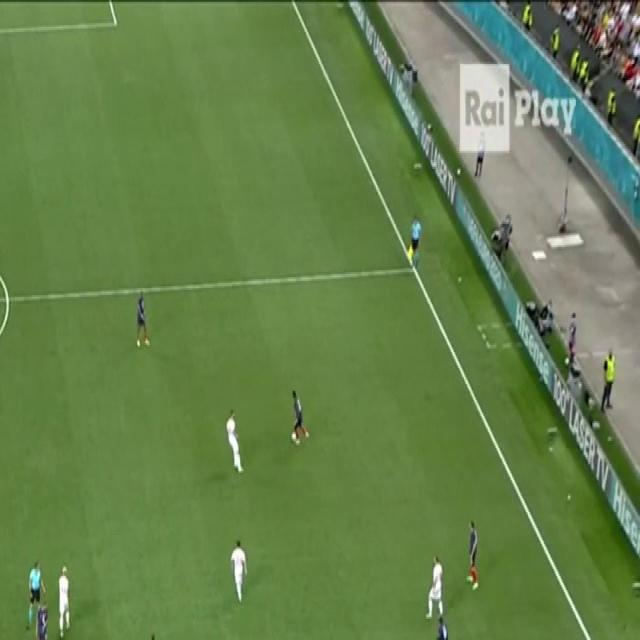ball: (289, 426, 299, 446)
player-white: (423, 549, 449, 626), (465, 518, 485, 596), (287, 386, 313, 446), (224, 406, 244, 480), (26, 558, 48, 624), (55, 563, 73, 640), (230, 540, 246, 604), (135, 288, 149, 350), (32, 599, 51, 640), (406, 213, 420, 264), (434, 609, 453, 640), (143, 631, 165, 640), (232, 636, 258, 640)
